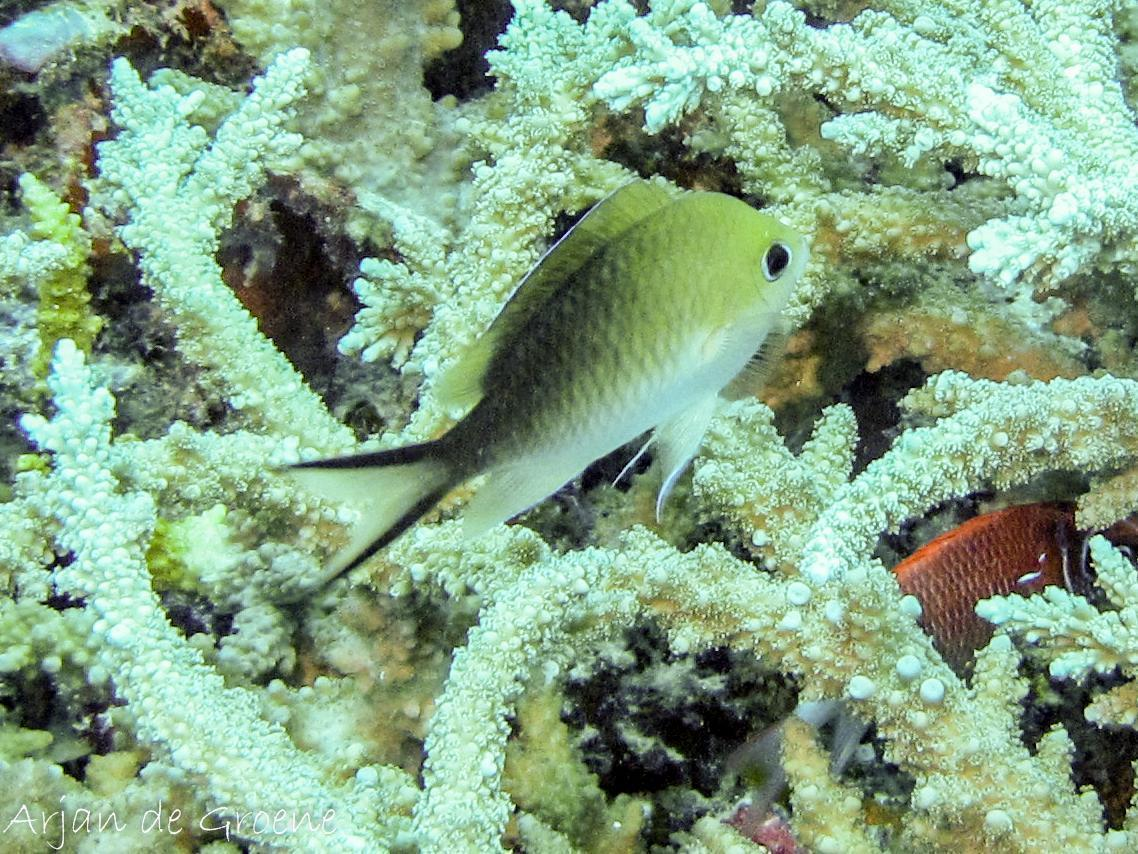Chromis ternatensis: (153, 119, 882, 630)
